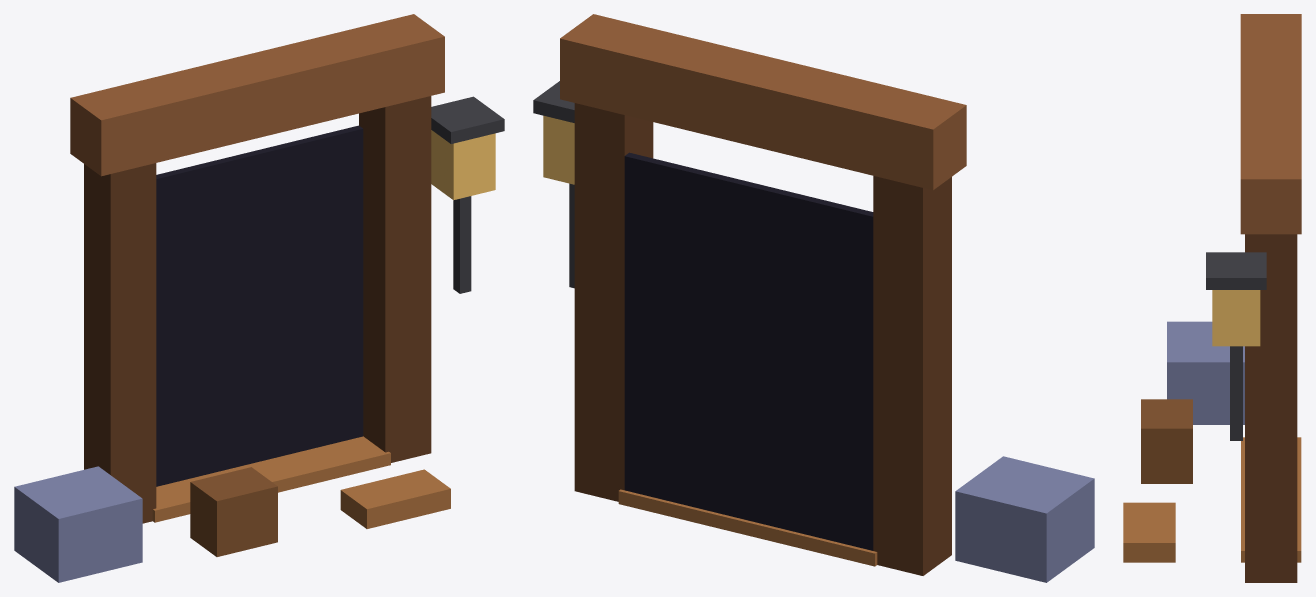
File: CaveEntrance.obj
3 renders of one model, left to right at view 1: azimuth 30°, elevation 25°; view 2: azimuth 150°, elevation 25°; view 3: azimuth 270°, elevation 25°, orthographic. The views are drawn at different scales.
Parts seen in each view (by area): view 1: CaveEntrance; view 2: CaveEntrance; view 3: CaveEntrance.
Part boxes in pixels (x1=…): CaveEntrance: x1=14, y1=14, x2=504, y2=582; CaveEntrance: x1=533, y1=14, x2=1094, y2=582; CaveEntrance: x1=1123, y1=14, x2=1301, y2=582.
Bounding box in the file's own units: 12.2 × 10.4 × 4.1.
